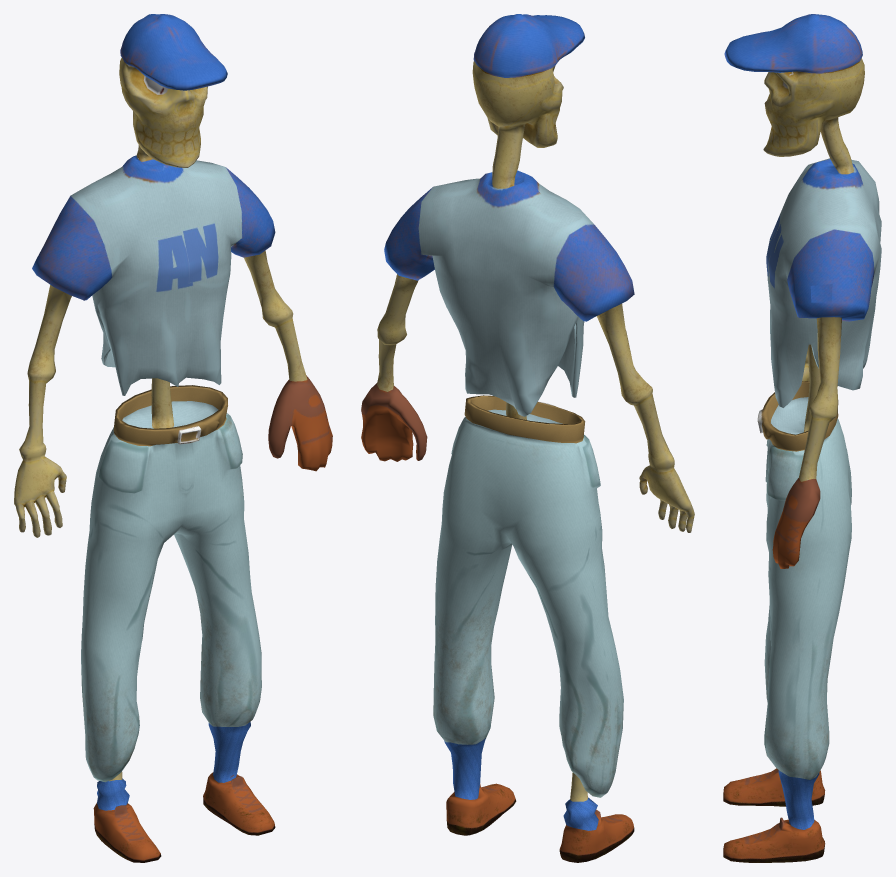
The picture shows the model from 3 angles, left to right: view 1: azimuth 30°, elevation 25°; view 2: azimuth 150°, elevation 25°; view 3: azimuth 270°, elevation 25°; orthographic projection. The views are drawn at different scales.
Parts seen in each view (by area): view 1: Pants_low, Shirt_low, Squelette_low, Shoes_low, Glove_low, Belt_low, Hand_low; view 2: Pants_low, Shirt_low, Squelette_low, Shoes_low, Glove_low, Belt_low, Hand_low; view 3: Pants_low, Shirt_low, Squelette_low, Shoes_low, Glove_low, Belt_low.
Part boxes in pixels (x1=…): Pants_low: x1=81, y1=401, x2=261, y2=782; Shirt_low: x1=32, y1=155, x2=275, y2=395; Squelette_low: x1=19, y1=14, x2=307, y2=462; Shoes_low: x1=93, y1=772, x2=275, y2=862; Glove_low: x1=268, y1=375, x2=332, y2=471; Belt_low: x1=113, y1=385, x2=227, y2=444; Hand_low: x1=14, y1=456, x2=66, y2=537; Pants_low: x1=433, y1=409, x2=623, y2=801; Shirt_low: x1=384, y1=170, x2=634, y2=416; Squelette_low: x1=377, y1=14, x2=674, y2=472; Shoes_low: x1=446, y1=783, x2=634, y2=862; Glove_low: x1=361, y1=383, x2=427, y2=461; Belt_low: x1=464, y1=395, x2=585, y2=440; Hand_low: x1=639, y1=465, x2=694, y2=532; Pants_low: x1=764, y1=397, x2=851, y2=829; Shirt_low: x1=766, y1=158, x2=881, y2=407; Squelette_low: x1=724, y1=14, x2=864, y2=481; Shoes_low: x1=723, y1=768, x2=825, y2=862; Glove_low: x1=772, y1=478, x2=820, y2=568; Belt_low: x1=757, y1=381, x2=838, y2=450.
Bounding box in the file's own units: 0.8271 × 2 × 0.3542.
1 material, 1 textured.
